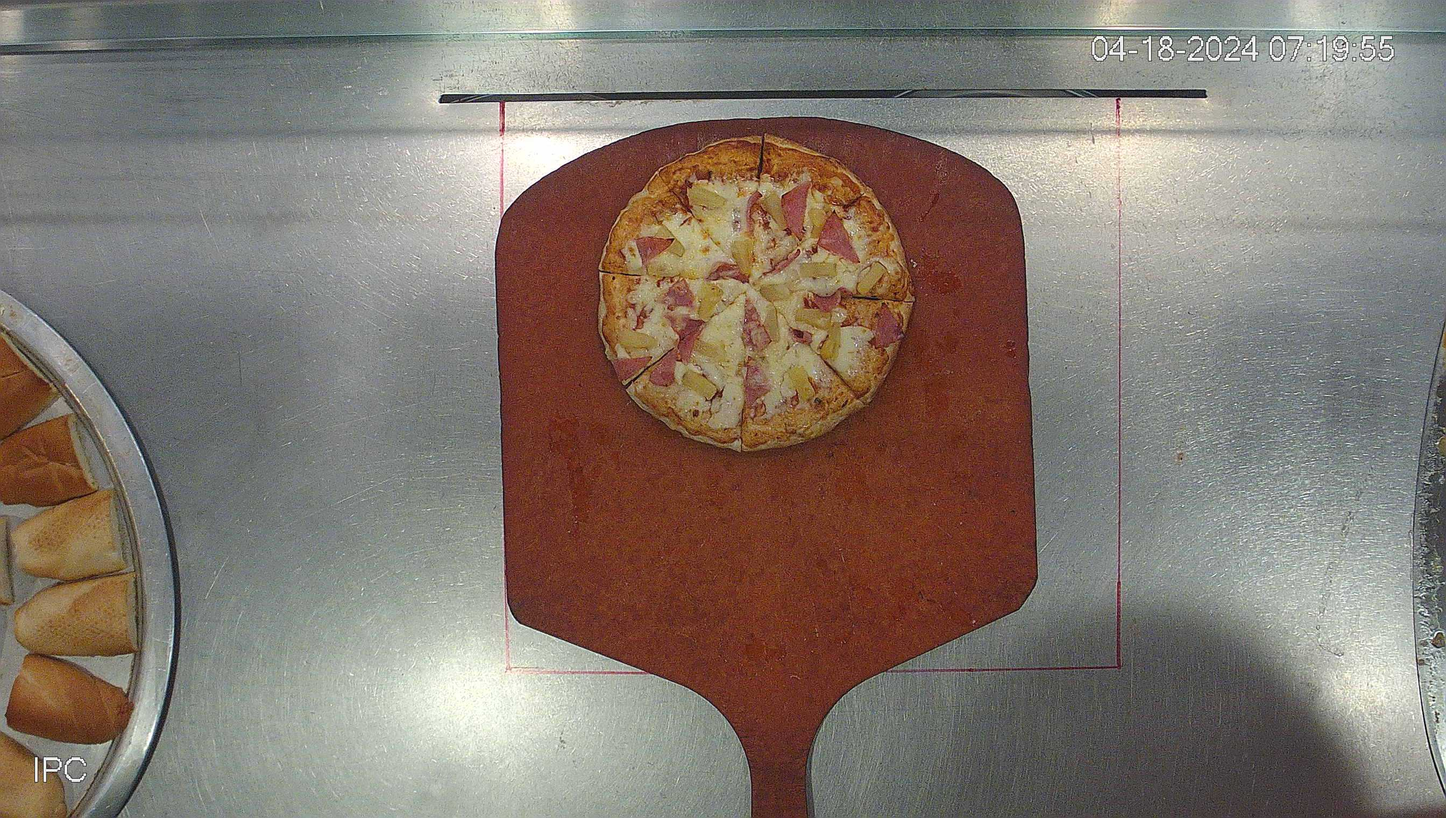manager_choice: (596, 136, 913, 454)
